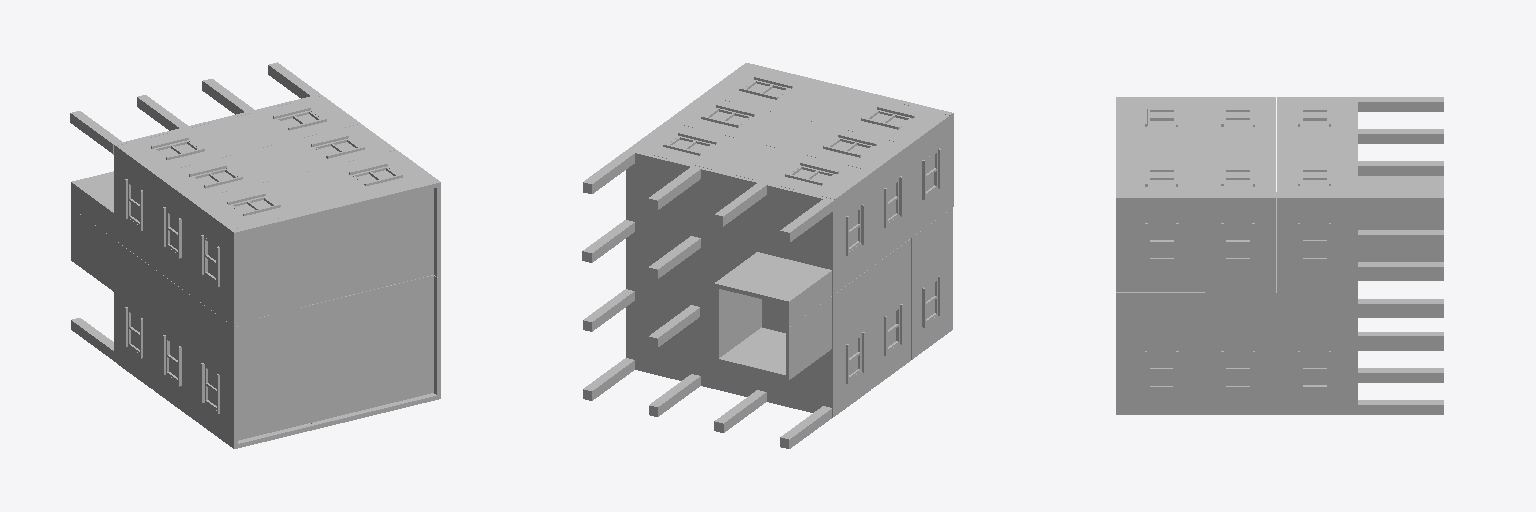
File: TestBulid.obj
3 renders of one model, left to right at view 1: azimuth 30°, elevation 25°; view 2: azimuth 150°, elevation 25°; view 3: azimuth 270°, elevation 25°, orthographic.
Parts seen in each view (by area): view 1: TestBulid; view 2: TestBulid; view 3: TestBulid.
Boxes of the visible parts, <box> form: TestBulid: <box>70,62,440,448</box>; TestBulid: <box>582,63,953,448</box>; TestBulid: <box>1116,97,1443,414</box>.
Size of the model in its own units: 10.24 by 10.23 by 13.7.